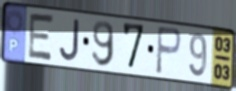7: (121, 21, 145, 73)
9: (91, 20, 116, 69), (188, 32, 208, 79)
E: (26, 11, 57, 63)
J: (58, 18, 81, 64)
P: (154, 24, 184, 77)
